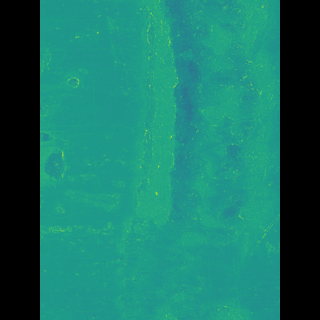Loch: (126, 0, 248, 320)
